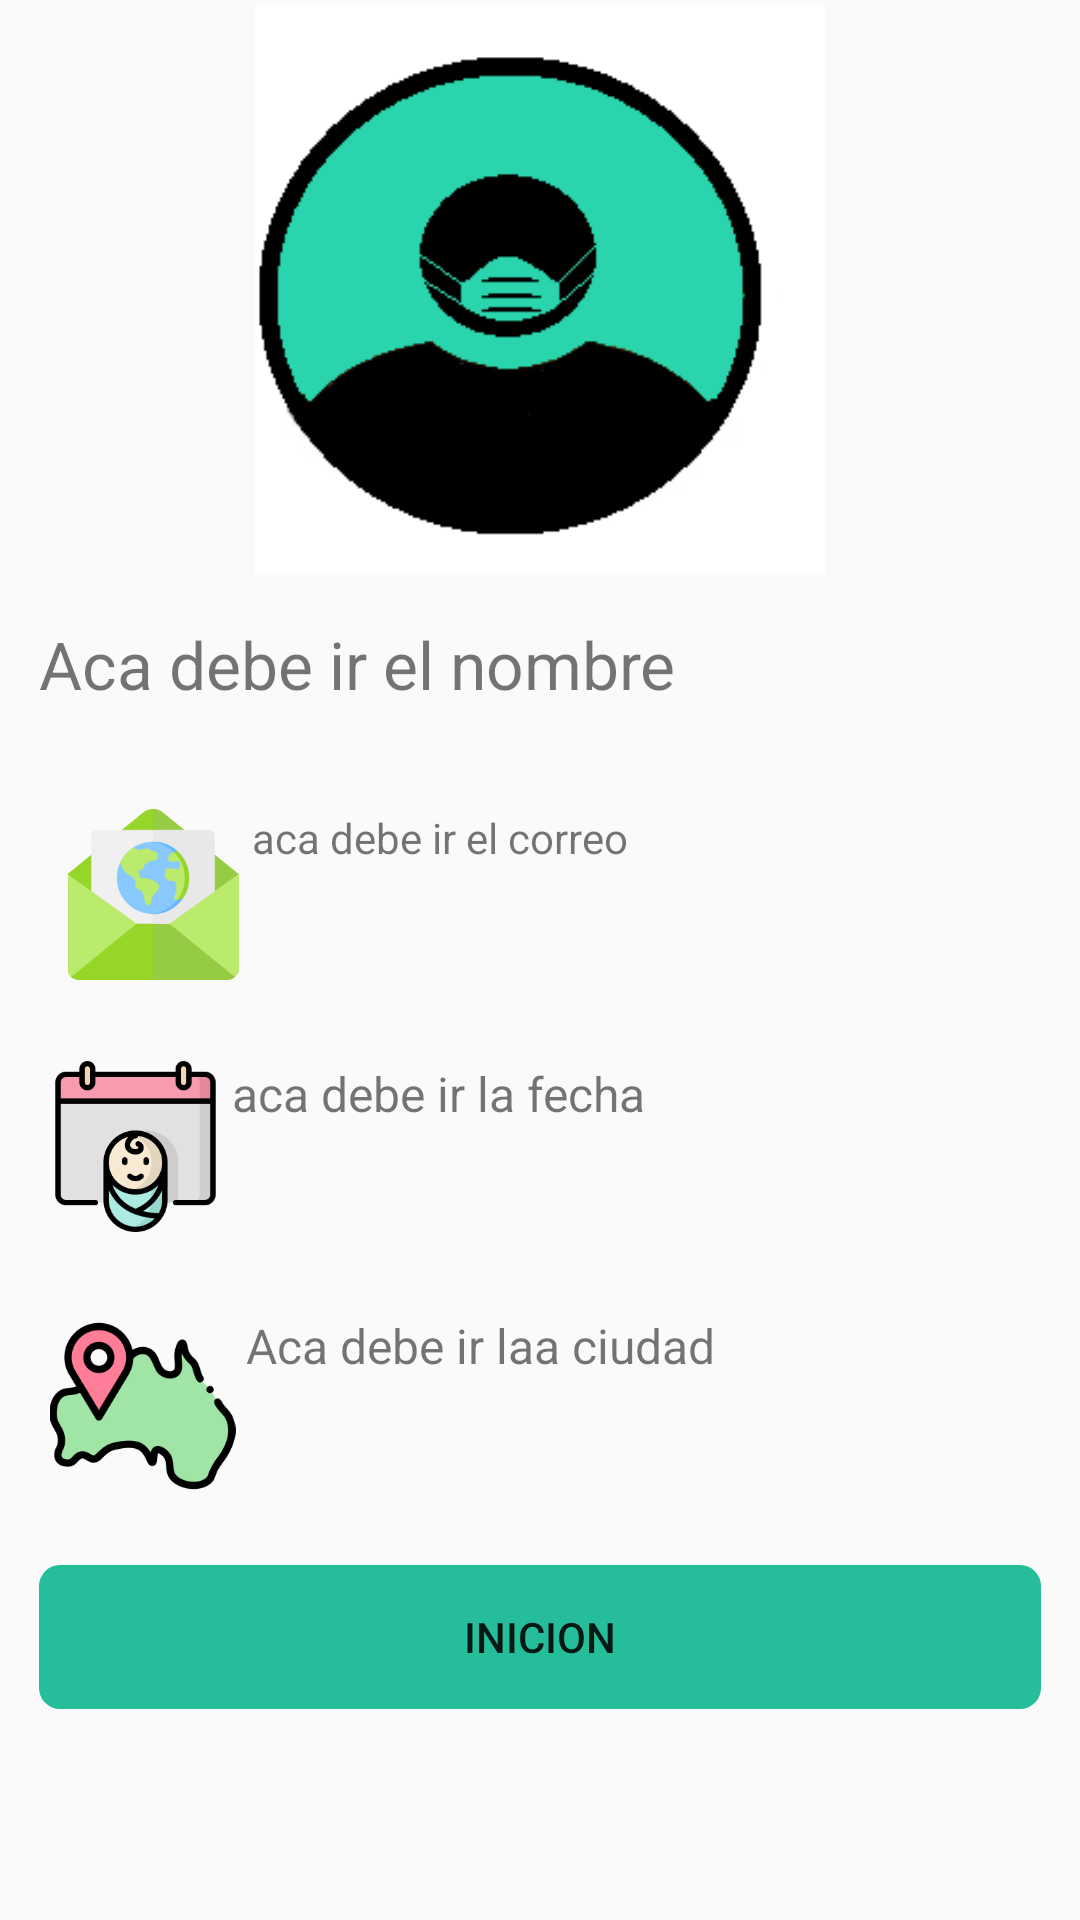

Named icons in this screenshot (1080w x 1920h) and their bounding boxes, (x1, y1, x2, y2):
australia: (50, 1322, 236, 1490)
baby: (55, 1061, 216, 1232)
mail: (68, 809, 239, 980)
